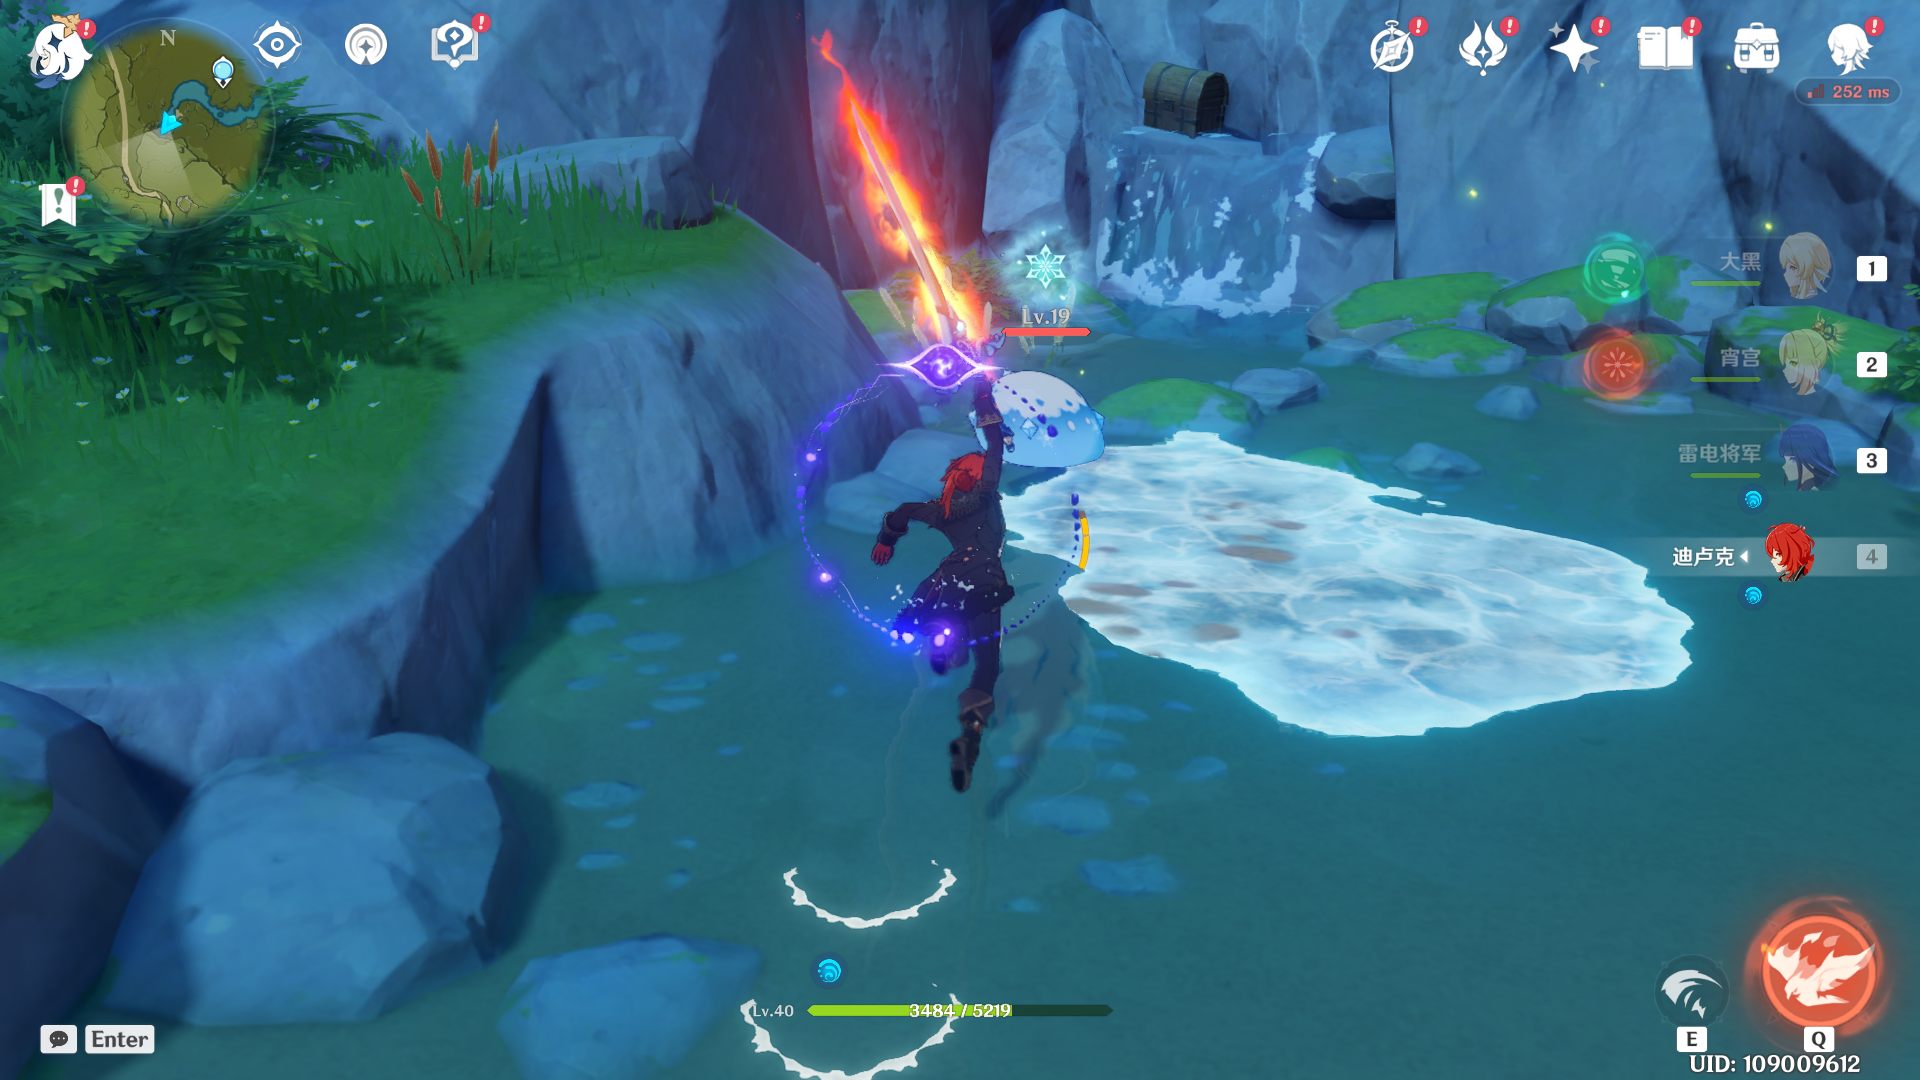character: (823, 338, 1073, 825)
slime: (951, 349, 1125, 500)
